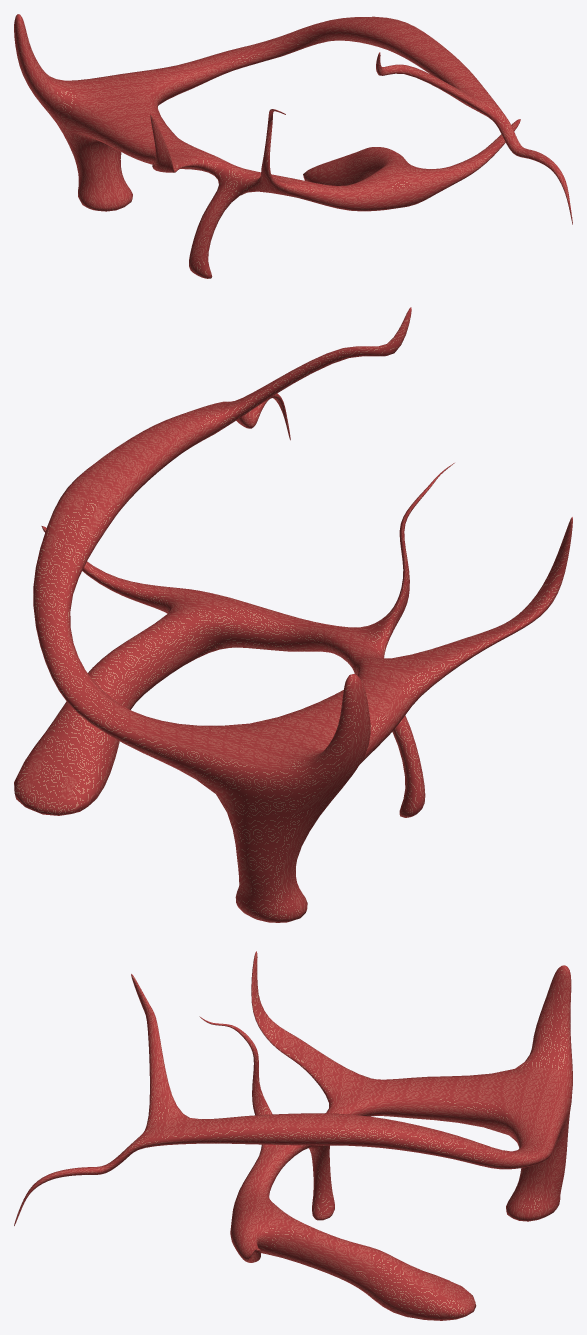
Rendered from GiantTree.dae.
3 views of the same model, one above another, from view 1: azimuth 30°, elevation 25°; view 2: azimuth 150°, elevation 25°; view 3: azimuth 270°, elevation 25° (orthographic). The views are drawn at different scales.
Parts seen in each view (by area): view 1: GiantTree; view 2: GiantTree; view 3: GiantTree.
Boxes of the visible parts, <box> form: GiantTree: <box>14,14,572,278</box>; GiantTree: <box>14,307,572,922</box>; GiantTree: <box>14,951,572,1320</box>.
Bounding box in the file's own units: 152 × 185 × 106.
Materials: 1 (1 with a texture image).
